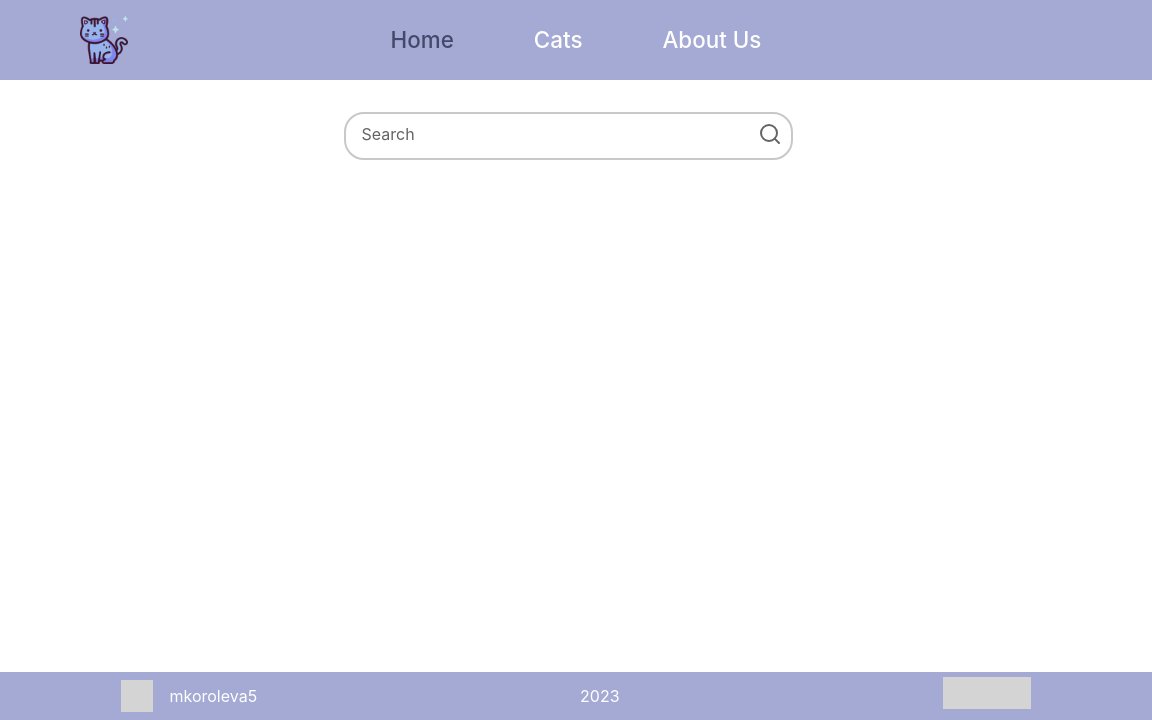
Test case: Pages tests › checks if home link works
Click the link "About Us" at (713,40), box [663,23,762,57]
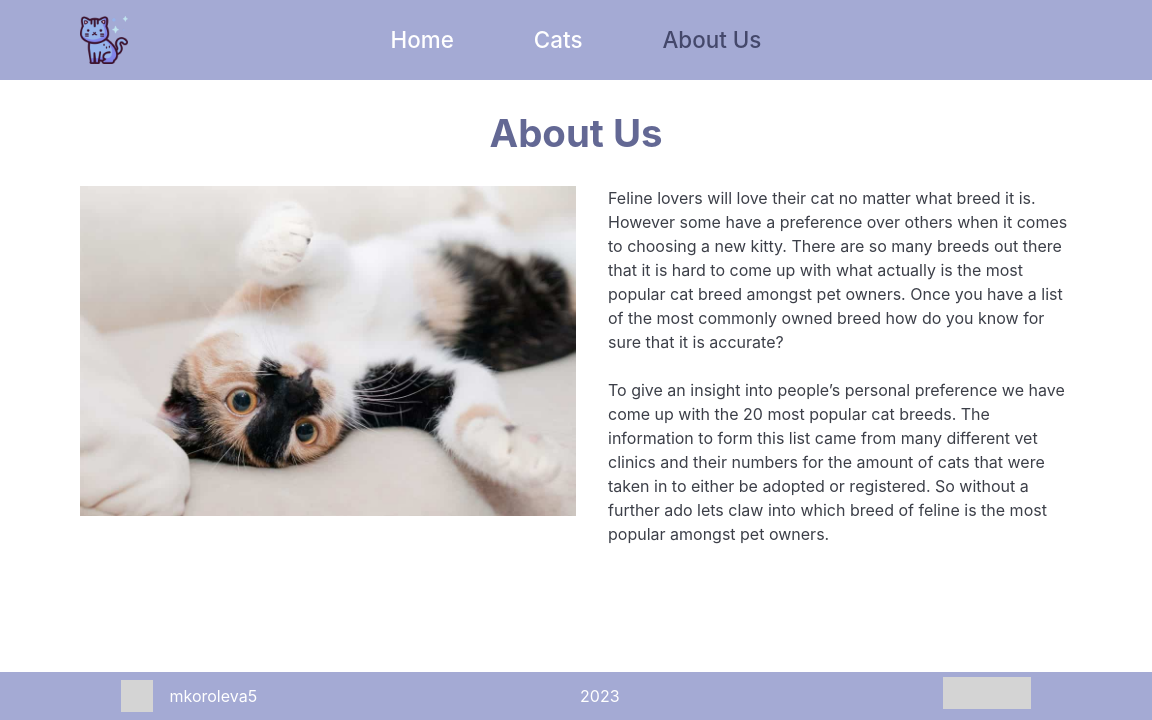
Click the link "Home" at (423,40), box [391,23,454,57]
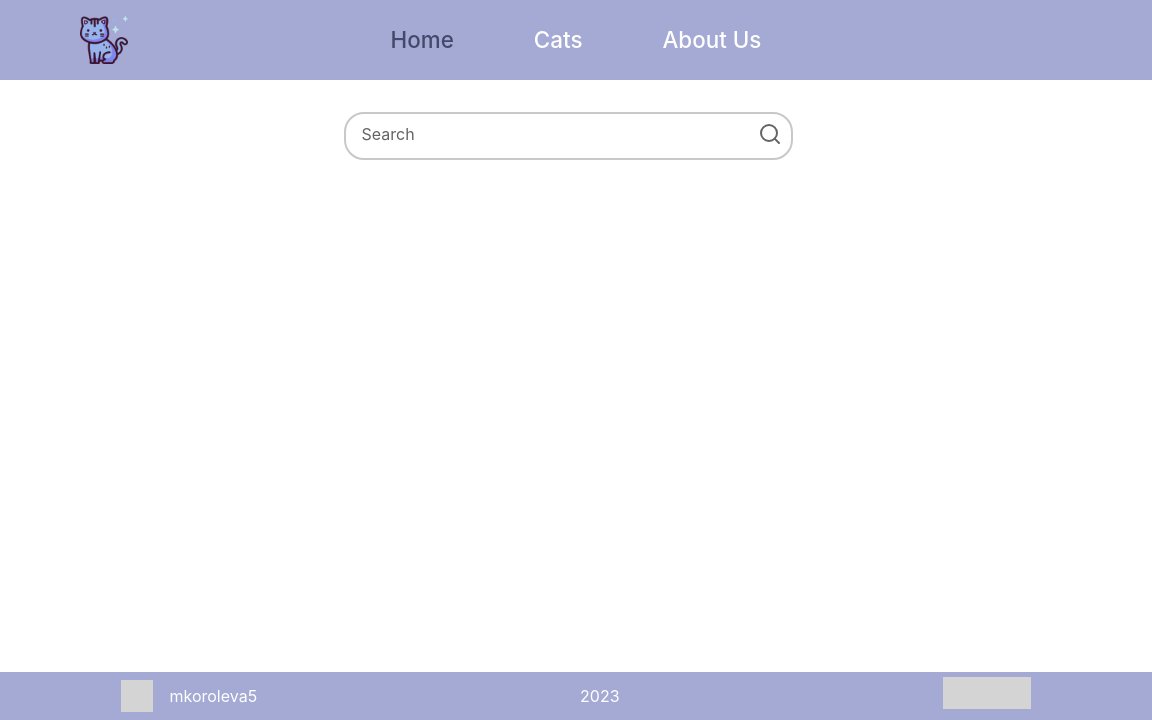
Expected: the text "Search" is shown, [362,124,415,144]
